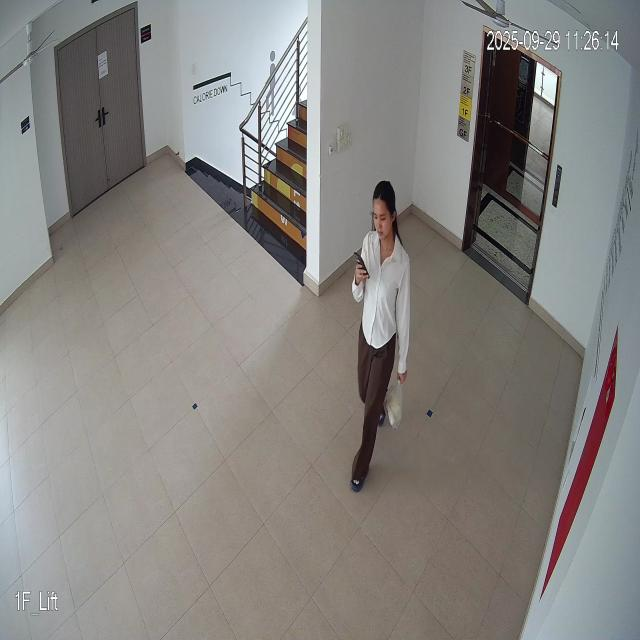face: (370, 174, 398, 244)
